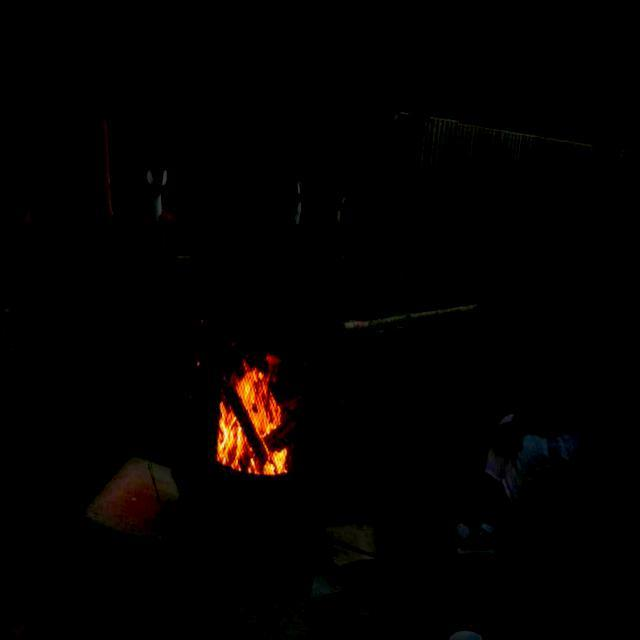Fire: (218, 336, 312, 476)
